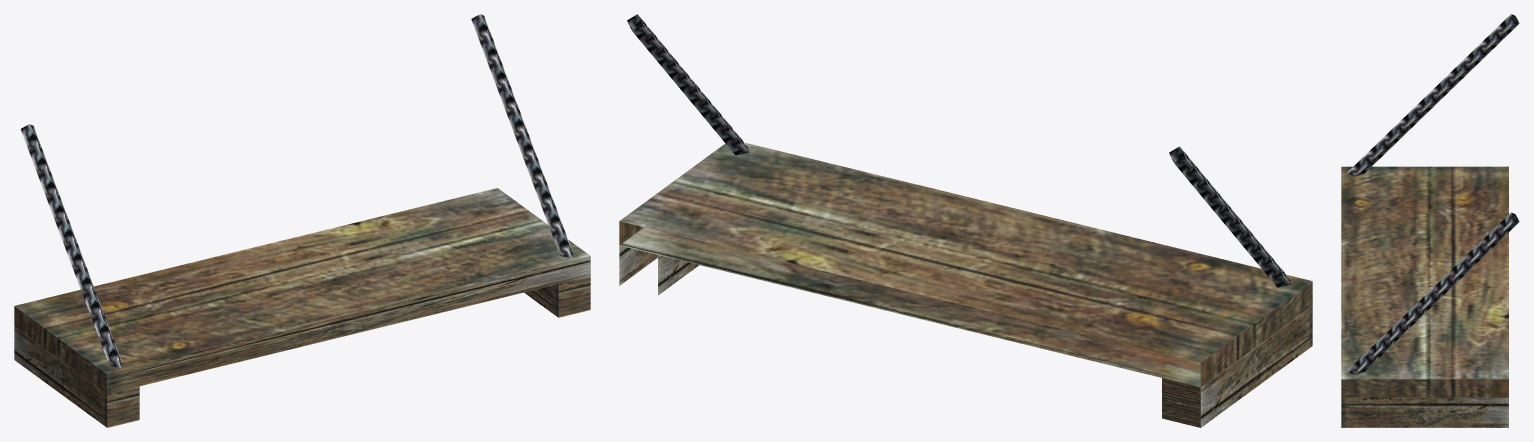
The model's file is d_lejak1.glb.
The picture shows the model from 3 angles, left to right: view 1: azimuth 30°, elevation 25°; view 2: azimuth 150°, elevation 25°; view 3: azimuth 270°, elevation 25°; orthographic projection. The views are drawn at different scales.
Parts seen in each view (by area): view 1: d_lejak1; view 2: d_lejak1; view 3: d_lejak1.
Boxes of the visible parts, box(x1,y1,x2,y2) form: d_lejak1: box(14, 14, 590, 427); d_lejak1: box(619, 14, 1312, 427); d_lejak1: box(1341, 14, 1519, 427).
Bounding box in the file's own units: 1.5 × 0.6851 × 0.532.
2 materials, 2 textured.
